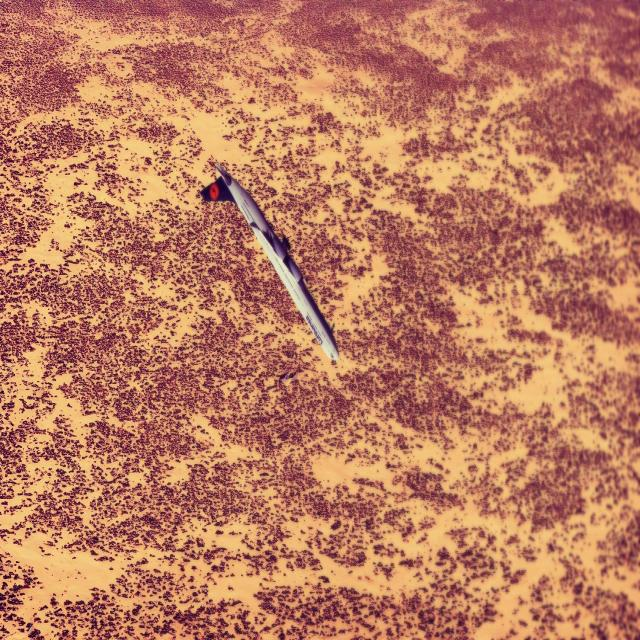airplane: (200, 162, 340, 365)
